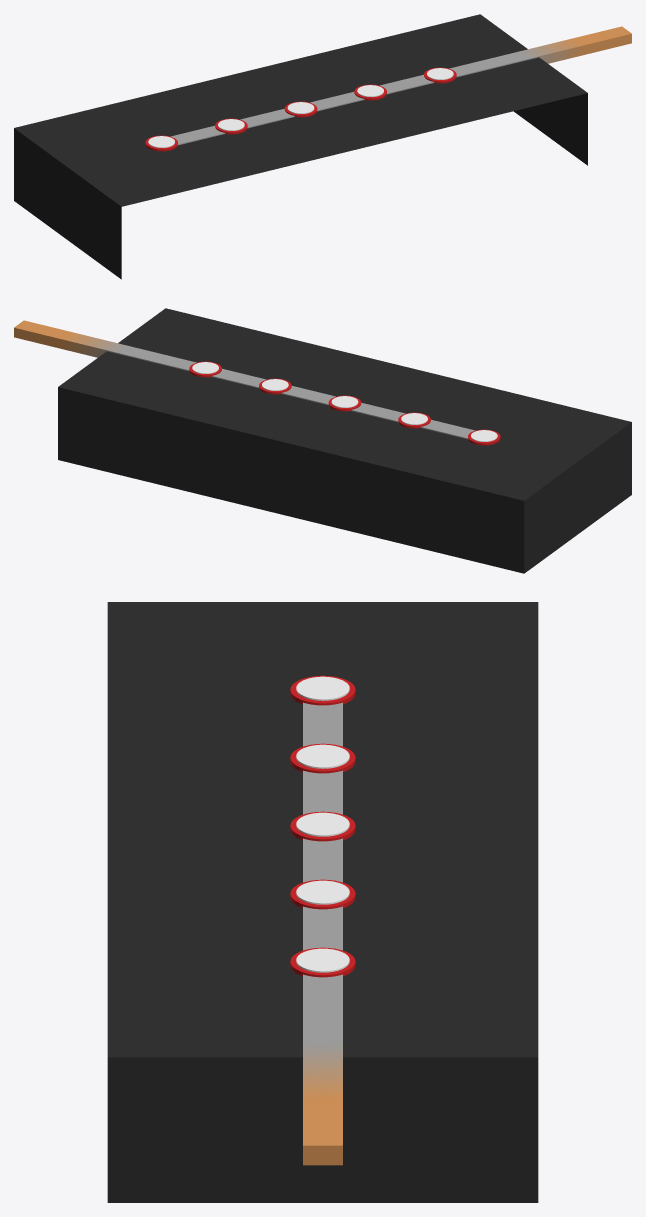
Rendered from stageSelect2.obj.
3 renders of one model, top to bottom at view 1: azimuth 30°, elevation 25°; view 2: azimuth 150°, elevation 25°; view 3: azimuth 270°, elevation 25°, orthographic. The views are drawn at different scales.
Parts seen in each view (by area): view 1: 立方体, 立方体.007, 立方体.002; view 2: 立方体, 立方体.007, 立方体.002; view 3: 立方体, 立方体.007, 立方体.002, 立方体.004, 立方体.003, 立方体.002a, 立方体.005, 立方体.001.
Part boxes in pixels (left/top/right/bottom): 立方体: left=14, top=14, right=587, bottom=279; 立方体.007: left=145, top=67, right=456, bottom=151; 立方体.002: left=449, top=26, right=631, bottom=77; 立方体: left=58, top=308, right=631, bottom=573; 立方体.007: left=189, top=361, right=500, bottom=445; 立方体.002: left=14, top=320, right=196, bottom=371; 立方体: left=107, top=602, right=538, bottom=1202; 立方体.007: left=290, top=675, right=355, bottom=977; 立方体.002: left=303, top=974, right=342, bottom=1165; 立方体.004: left=296, top=812, right=349, bottom=836; 立方体.003: left=296, top=880, right=349, bottom=904; 立方体.002a: left=296, top=948, right=349, bottom=972; 立方体.005: left=296, top=744, right=349, bottom=768; 立方体.001: left=296, top=676, right=349, bottom=700.
Size of the model in its own units: 120 by 15.58 by 40.18.
Materials: 1 (1 with a texture image).
